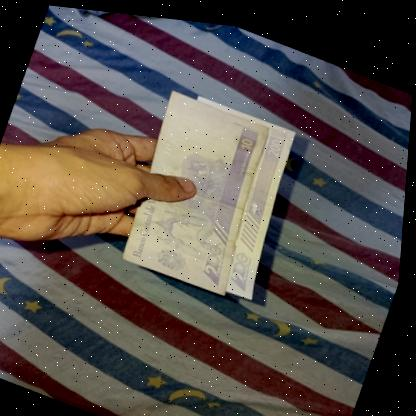ten-back-vef: (115, 80, 285, 296)
two_hundred-back-vef: (214, 111, 311, 297)
